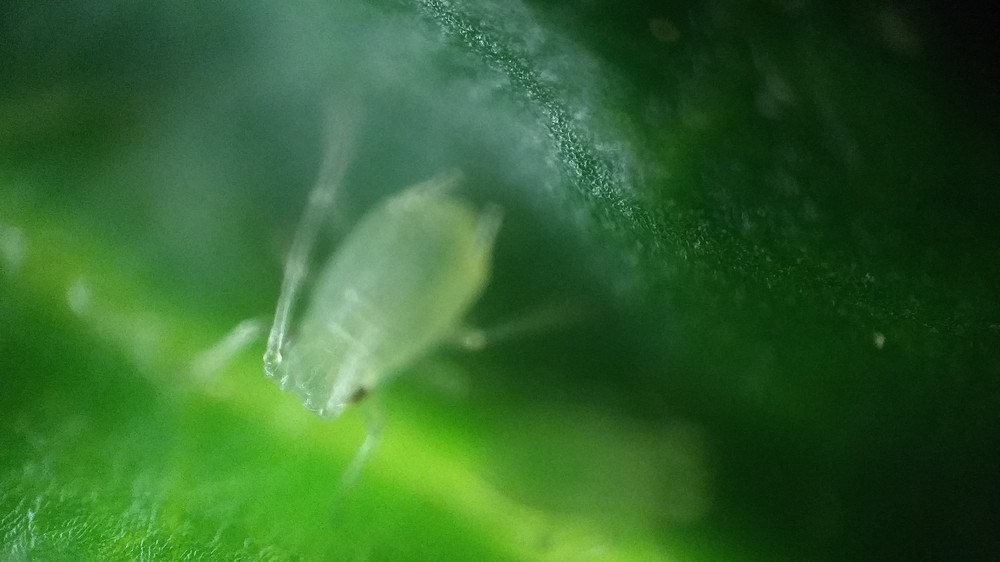Pulgon: (180, 103, 668, 490)
